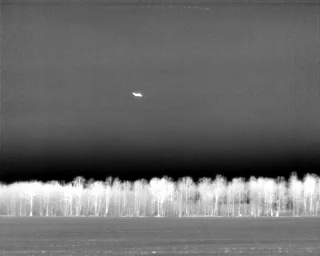DRONE: (129, 88, 146, 101)
